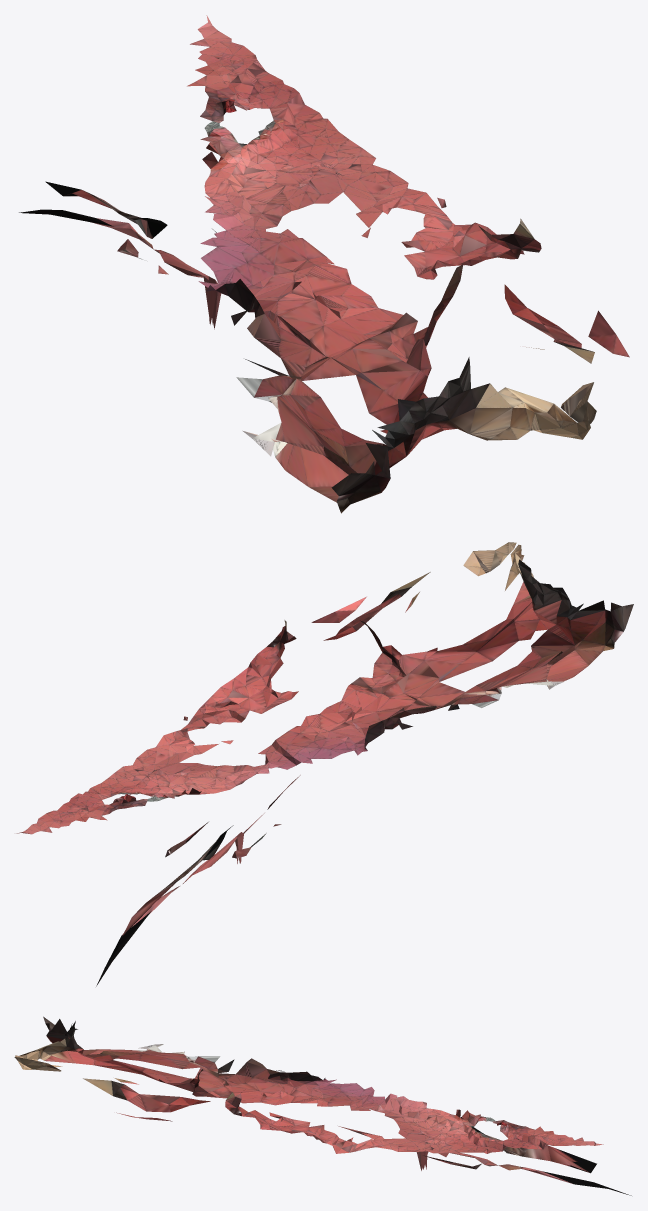
3 views of the same model, one above another, from view 1: azimuth 30°, elevation 25°; view 2: azimuth 150°, elevation 25°; view 3: azimuth 270°, elevation 25° (orthographic). The views are drawn at different scales.
Visible parts, largest first — view 1: Middle_LandscapeLO1; view 2: Middle_LandscapeLO1; view 3: Middle_LandscapeLO1.
Boxes of the visible parts, x1,y1,x2,y2 form: Middle_LandscapeLO1: (19,15,629,513); Middle_LandscapeLO1: (16,542,633,986); Middle_LandscapeLO1: (14,1016,631,1195).
Size of the model in its own units: 15359 by 10219 by 39306.
1 material, 1 textured.
